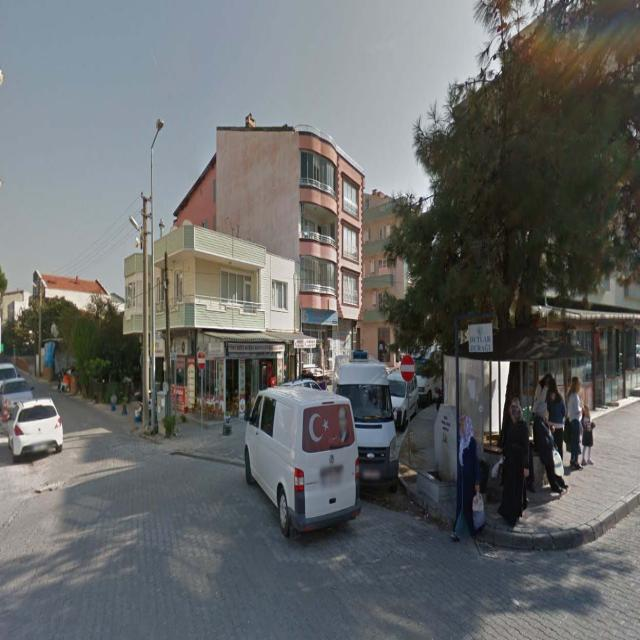girisyok: (400, 355, 417, 384), (197, 352, 207, 371)
